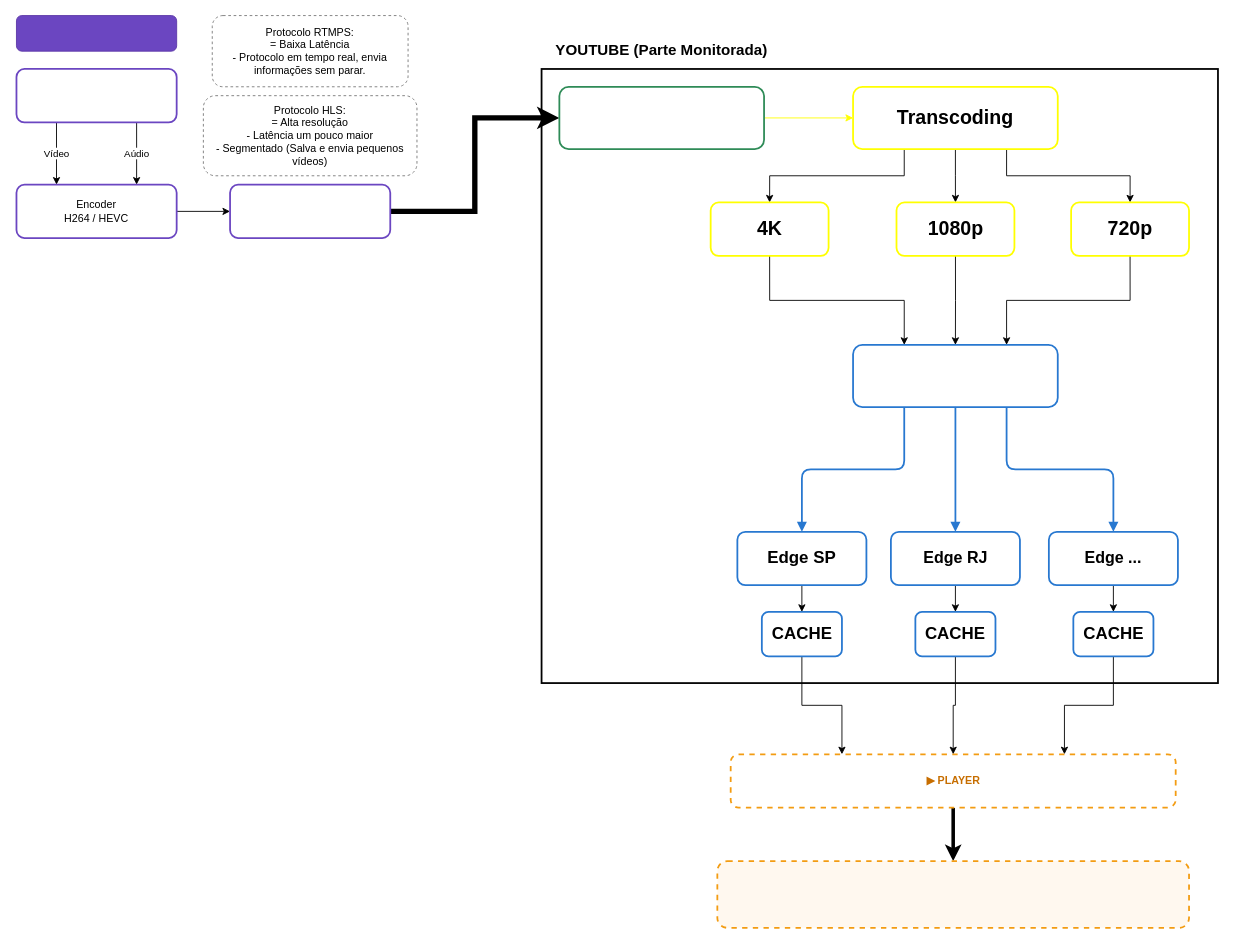
Some shapes in this 1234 by 944 pixel diagram are drawn without their labels. Each missing label, with the centre of its shape:
"BUFFER Armazena segmentos temporariamente para reprodução suave" belongs at point 952,894.
"CDN" belongs at point 955,376.
"Câmera / Codificador" belongs at point 96,95.
"INGESTÃO" belongs at point 661,117.
"PRODUÇÃO" belongs at point 96,33.
"Protocolo de Transmissão RTMPS / HLS" belongs at point 310,211.
